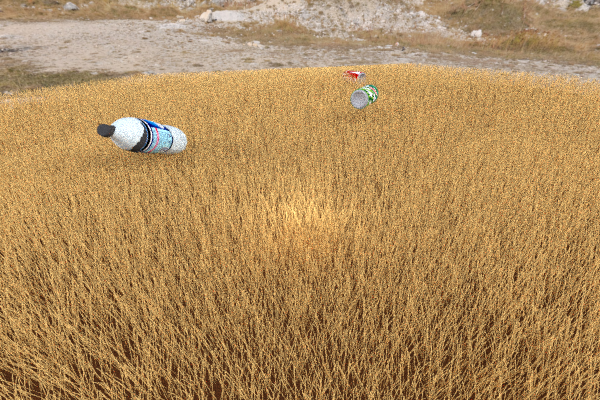Plastic Bottle: (96, 117, 187, 154), (350, 84, 378, 109), (341, 70, 366, 86)
